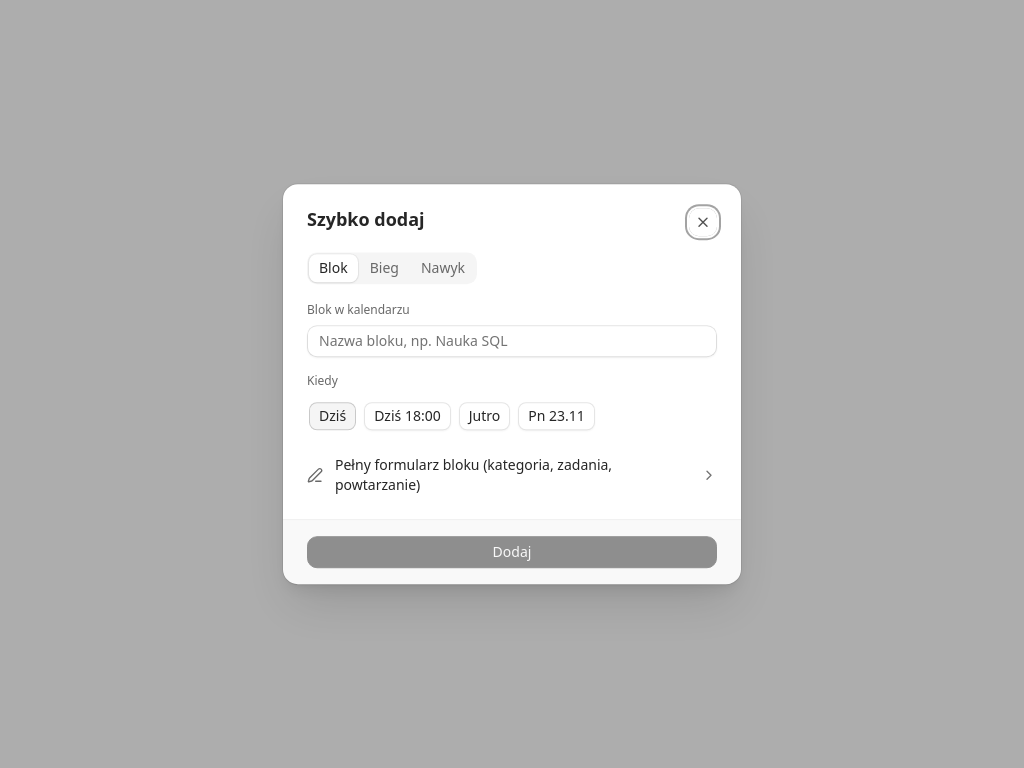
Test: MQuickAdd › błąd zostaje w arkuszu
Type "Pranie" into the field labelled "Blok w kalendarzu".
click(512, 341); type("Pranie")  # box x1=307 y1=325 x2=717 y2=357
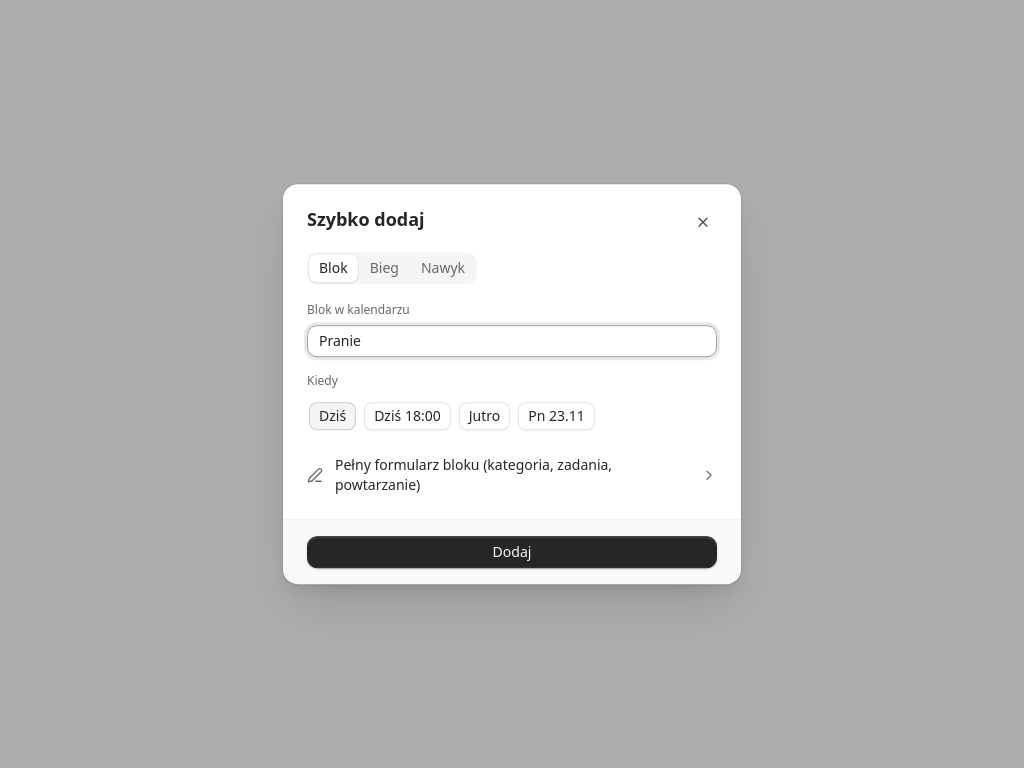
Click the button "Dodaj".
click(512, 552)  # box x1=307 y1=536 x2=717 y2=568
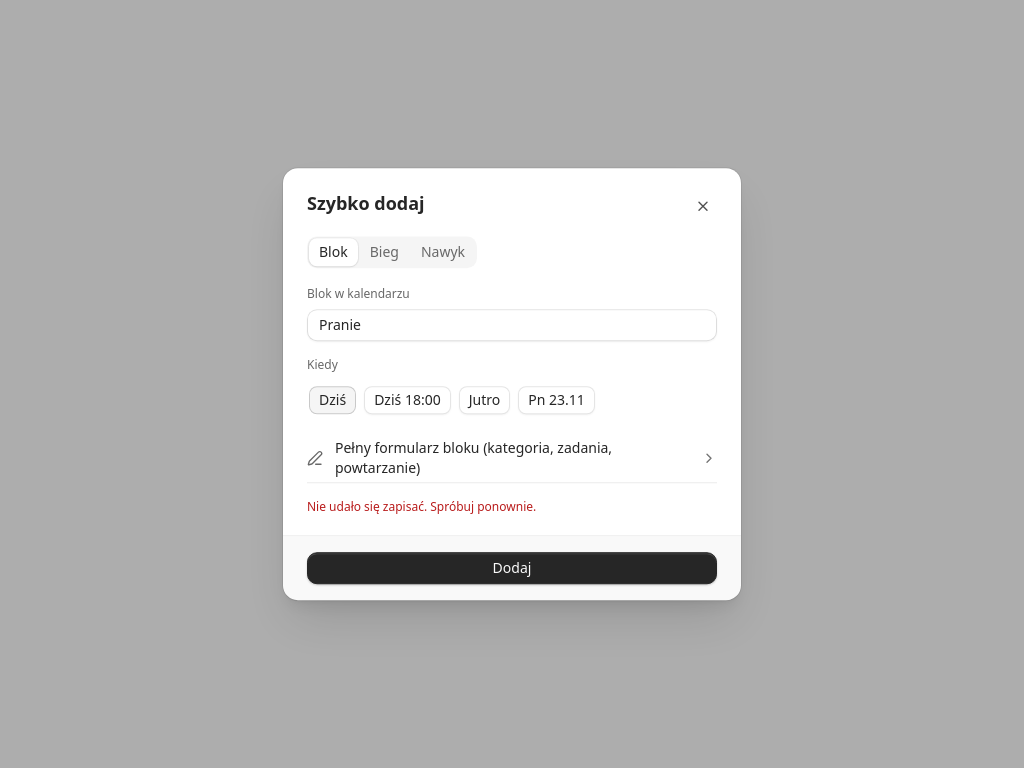
Expected: the dialog is shown, x1=282 y1=167 x2=742 y2=601
Now the message reads "Nie udało się zapisać. Spróbuj ponownie.", box x1=307 y1=498 x2=536 y2=515
